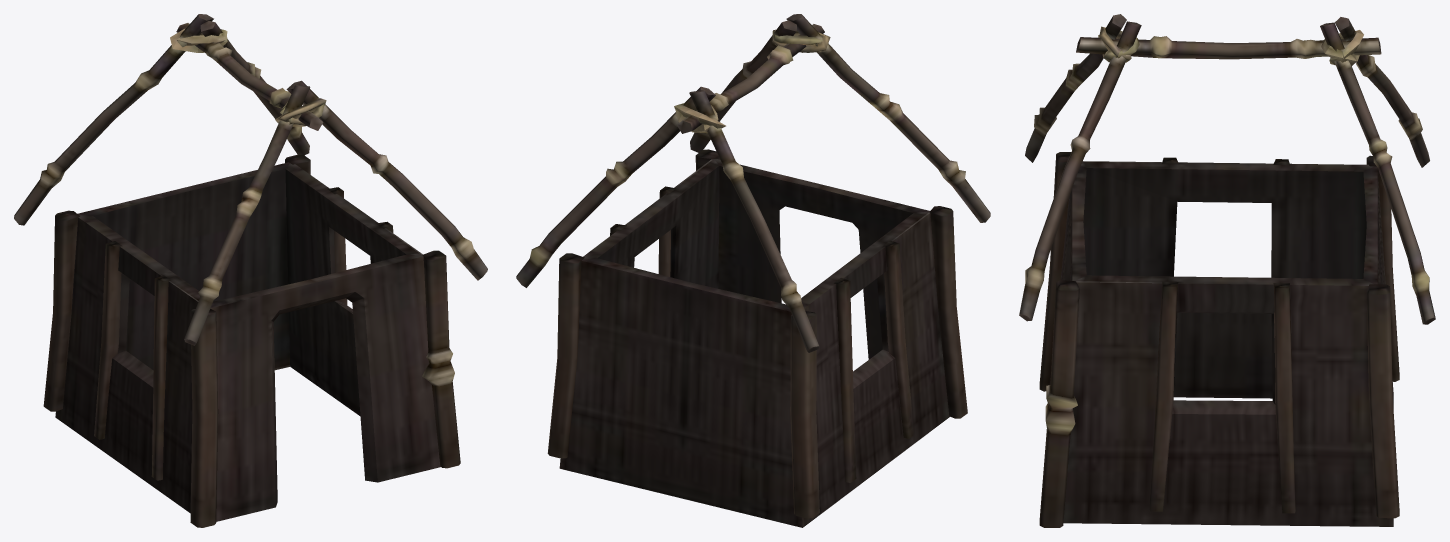
Rendered from cabin-base.glb.
3 renders of one model, left to right at view 1: azimuth 30°, elevation 25°; view 2: azimuth 150°, elevation 25°; view 3: azimuth 270°, elevation 25°, orthographic. The views are drawn at different scales.
Bounding box in the file's own units: 1.43 × 1.77 × 1.5.
Materials: 1 (1 with a texture image).
